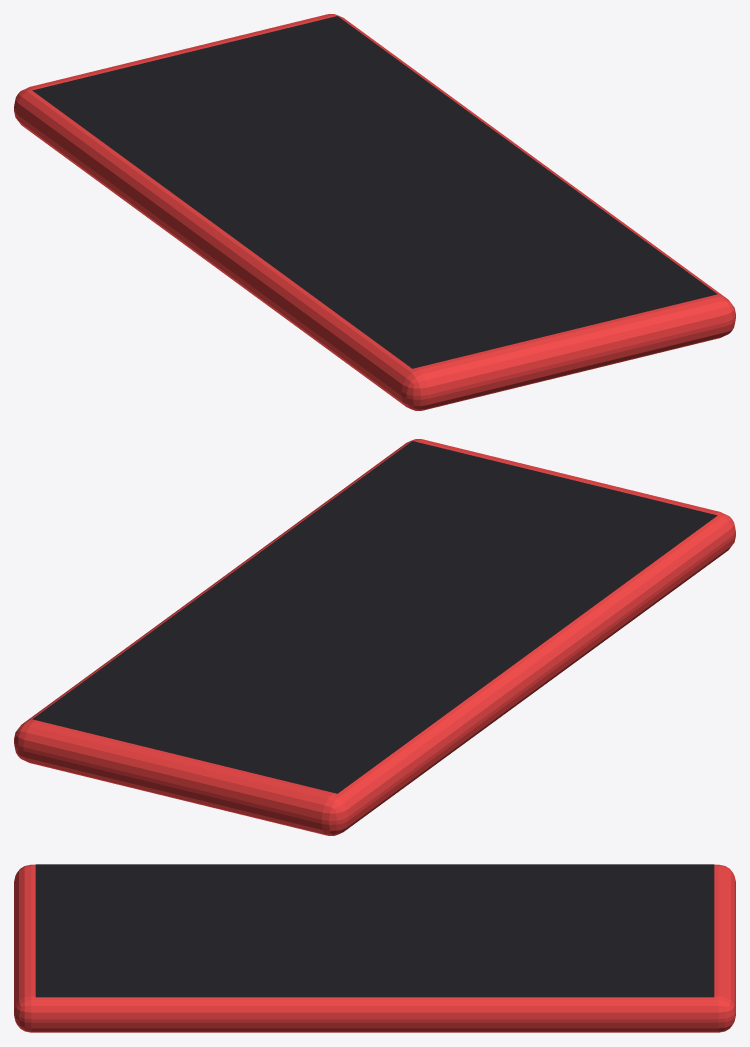
File: realme-8-5g-2021.glb
3 views of the same model, one above another, from view 1: azimuth 30°, elevation 25°; view 2: azimuth 150°, elevation 25°; view 3: azimuth 270°, elevation 25° (orthographic). The views are drawn at different scales.
Parts seen in each view (by area): view 1: Phone_Screen, Phone_Body; view 2: Phone_Screen, Phone_Body; view 3: Phone_Screen, Phone_Body.
Part boxes in pixels (x1,y1,x2,y2): Phone_Screen: (32, 16, 717, 368); Phone_Body: (14, 14, 735, 410); Phone_Screen: (32, 441, 717, 793); Phone_Body: (14, 439, 735, 835); Phone_Screen: (35, 864, 714, 997); Phone_Body: (14, 864, 735, 1032).
Size of the model in its own units: 0.0761 by 0.0087 by 0.1606.
